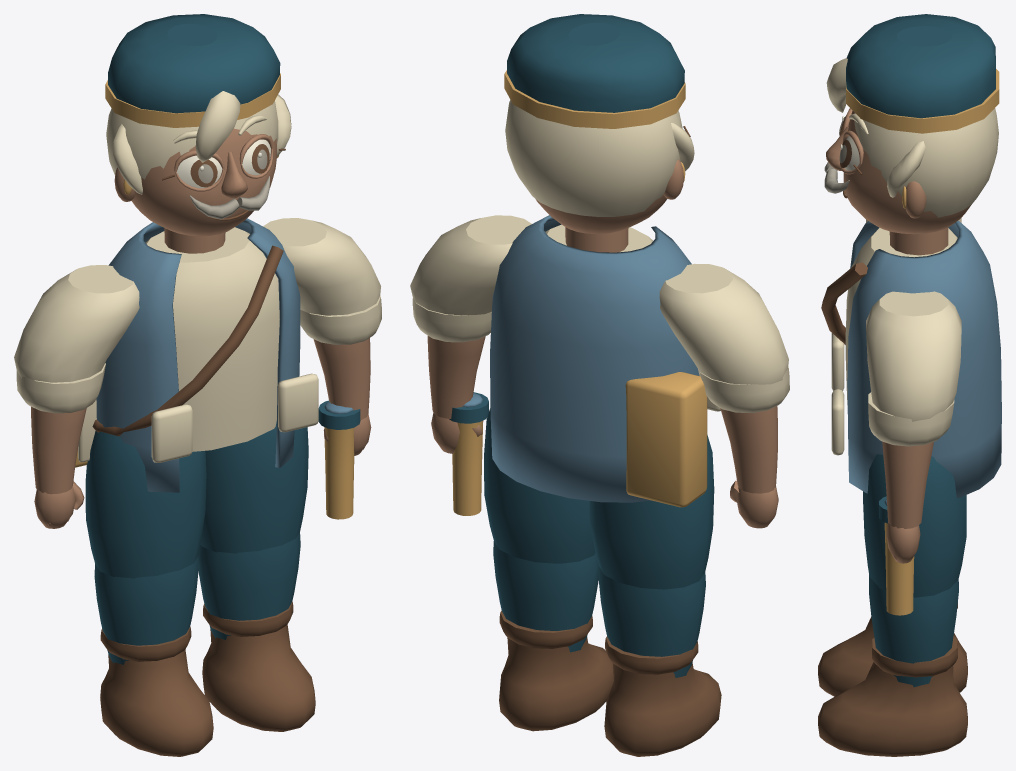
Rendered from world03-weather-reader-v2.glb.
3 views of the same model, side by side, from view 1: azimuth 30°, elevation 25°; view 2: azimuth 150°, elevation 25°; view 3: azimuth 270°, elevation 25° (orthographic). The views are drawn at different scales.
Parts seen in each view (by area): view 1: hero-upper__MAT_linen, hero-upper__MAT_teal, head-joint__MAT_teal_dark, left-hip__MAT_teal_dark, left-shoulder__MAT_linen, right-hip__MAT_teal_dark, left-knee__MAT_leather, right-knee__MAT_leather, right-shoulder__MAT_linen, head-joint__MAT_skin, head-joint__MAT_linen, left-knee__MAT_teal_dark (+10 smaller); view 2: hero-upper__MAT_teal, head-joint__MAT_linen, head-joint__MAT_teal_dark, left-shoulder__MAT_linen, hero-upper__MAT_ochre, left-hip__MAT_teal_dark, left-knee__MAT_leather, right-knee__MAT_leather, right-shoulder__MAT_linen, right-hip__MAT_teal_dark, left-knee__MAT_teal_dark, right-knee__MAT_teal_dark (+7 smaller); view 3: hero-upper__MAT_teal, right-shoulder__MAT_linen, head-joint__MAT_teal_dark, right-knee__MAT_leather, head-joint__MAT_linen, right-hip__MAT_teal_dark, head-joint__MAT_skin, right-knee__MAT_teal_dark, right-elbow__MAT_skin, left-knee__MAT_leather, hero-upper__MAT_linen, head-joint__MAT_ochre (+3 smaller).
Part boxes in pixels (x1=…): hero-upper__MAT_linen: x1=78, y1=227, x2=318, y2=462; hero-upper__MAT_teal: x1=96, y1=218, x2=300, y2=492; head-joint__MAT_teal_dark: x1=108, y1=14, x2=280, y2=113; left-hip__MAT_teal_dark: x1=85, y1=431, x2=206, y2=578; left-shoulder__MAT_linen: x1=14, y1=265, x2=139, y2=413; right-hip__MAT_teal_dark: x1=200, y1=420, x2=308, y2=553; left-knee__MAT_leather: x1=100, y1=626, x2=213, y2=756; right-knee__MAT_leather: x1=202, y1=601, x2=315, y2=731; right-shoulder__MAT_linen: x1=263, y1=218, x2=381, y2=344; head-joint__MAT_skin: x1=114, y1=128, x2=276, y2=253; head-joint__MAT_linen: x1=106, y1=91, x2=291, y2=194; left-knee__MAT_teal_dark: x1=94, y1=557, x2=198, y2=664; hero-upper__MAT_teal: x1=490, y1=215, x2=699, y2=502; head-joint__MAT_linen: x1=505, y1=100, x2=694, y2=216; head-joint__MAT_teal_dark: x1=507, y1=14, x2=684, y2=112; left-shoulder__MAT_linen: x1=659, y1=263, x2=789, y2=412; hero-upper__MAT_ochre: x1=625, y1=372, x2=707, y2=507; left-hip__MAT_teal_dark: x1=589, y1=435, x2=714, y2=589; left-knee__MAT_leather: x1=604, y1=636, x2=721, y2=756; right-knee__MAT_leather: x1=499, y1=611, x2=613, y2=731; right-shoulder__MAT_linen: x1=410, y1=215, x2=531, y2=342; right-hip__MAT_teal_dark: x1=484, y1=408, x2=595, y2=563; left-knee__MAT_teal_dark: x1=598, y1=567, x2=705, y2=677; right-knee__MAT_teal_dark: x1=493, y1=541, x2=599, y2=652; hero-upper__MAT_teal: x1=847, y1=220, x2=1001, y2=498; right-shoulder__MAT_linen: x1=866, y1=291, x2=961, y2=446; head-joint__MAT_teal_dark: x1=846, y1=14, x2=995, y2=118; right-knee__MAT_leather: x1=818, y1=636, x2=967, y2=756; head-joint__MAT_linen: x1=826, y1=58, x2=998, y2=217; right-hip__MAT_teal_dark: x1=863, y1=454, x2=966, y2=597; head-joint__MAT_skin: x1=826, y1=108, x2=970, y2=255; right-knee__MAT_teal_dark: x1=869, y1=575, x2=958, y2=687; right-elbow__MAT_skin: x1=882, y1=441, x2=933, y2=563; left-knee__MAT_leather: x1=818, y1=603, x2=967, y2=696; hero-upper__MAT_linen: x1=831, y1=227, x2=957, y2=455; head-joint__MAT_ochre: x1=846, y1=69, x2=999, y2=208.
Bounding box in the file's own units: 1.15 × 2.07 × 0.5074.
